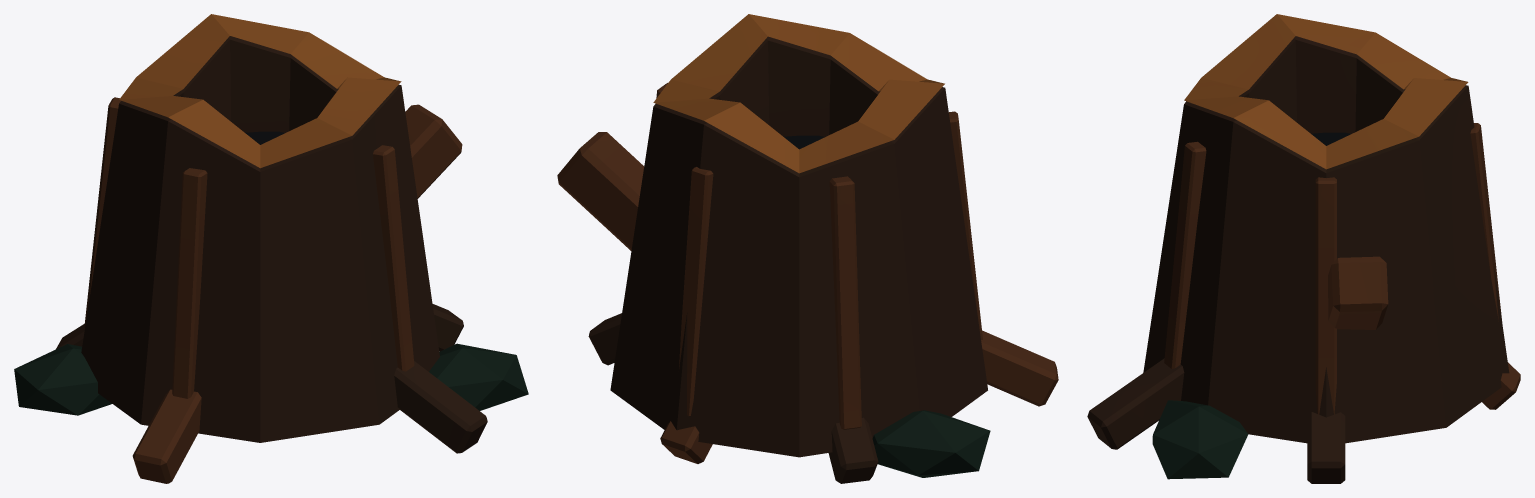
Rendered from env_stump_native-C4p3waog.glb.
3 renders of one model, left to right at view 1: azimuth 30°, elevation 25°; view 2: azimuth 150°, elevation 25°; view 3: azimuth 270°, elevation 25°, orthographic. The views are drawn at different scales.
Visible parts, largest first — view 1: env_stump_native_l1_body; view 2: env_stump_native_l1_body; view 3: env_stump_native_l1_body.
Boxes of the visible parts, x1,y1,x2,y2 form: env_stump_native_l1_body: (14, 14, 528, 483); env_stump_native_l1_body: (557, 14, 1058, 483); env_stump_native_l1_body: (1087, 14, 1520, 483).
Bounding box in the file's own units: 0.5702 × 0.4316 × 0.5097.
1 material, 1 textured.
